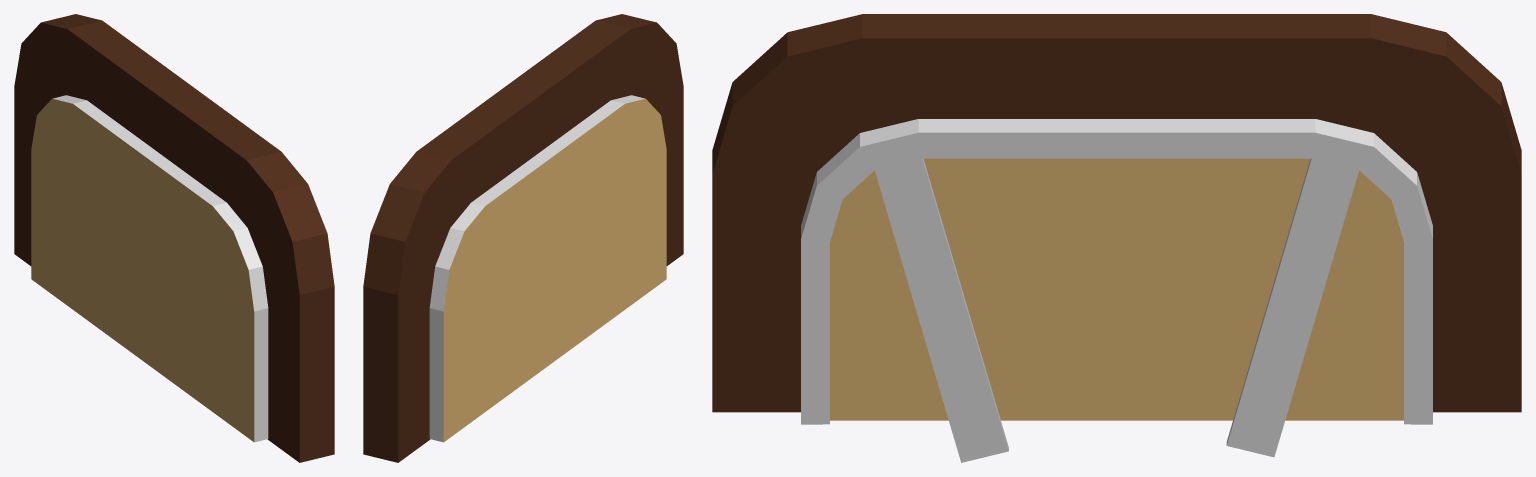
File: door.fbx
The picture shows the model from 3 angles, left to right: view 1: azimuth 30°, elevation 25°; view 2: azimuth 150°, elevation 25°; view 3: azimuth 270°, elevation 25°; orthographic projection. The views are drawn at different scales.
Visible parts, largest first — view 1: Cube, Cube.001; view 2: Cube, Cube.001; view 3: Cube, Cube.001.
Boxes of the visible parts, bbox=[...] form: Cube: bbox=[31, 95, 268, 442]; Cube.001: bbox=[14, 14, 334, 462]; Cube: bbox=[429, 95, 666, 442]; Cube.001: bbox=[363, 14, 683, 462]; Cube: bbox=[801, 119, 1432, 462]; Cube.001: bbox=[712, 14, 1521, 412].
Bounding box in the file's own units: 167 × 666 × 1189.
